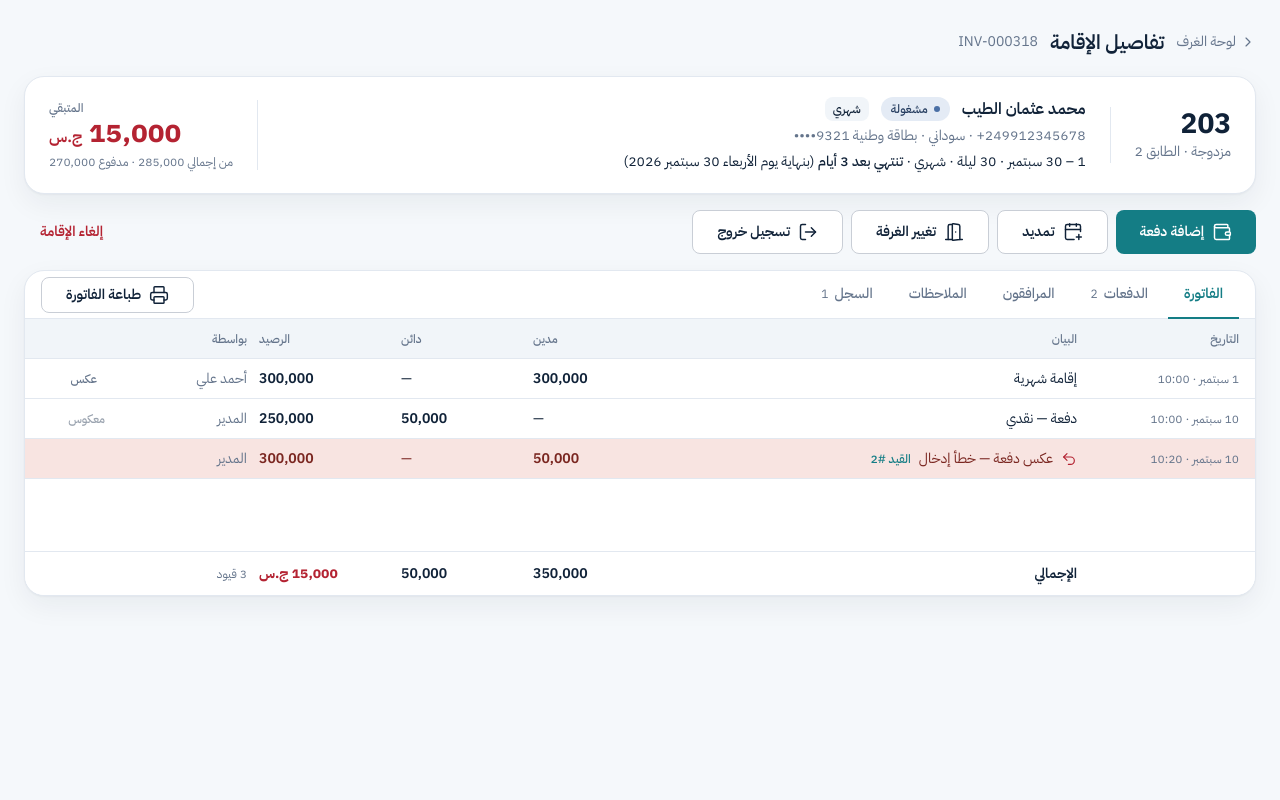
header, reversal link, and the check-out rule for a debt
Expected: the text "INV-000318" is shown, [958,31,1038,53]
Expected: the text "تنتهي بعد 3 أيام" is shown, [818,151,903,172]
Step 1. Click the tab "السجل 1" → point(847, 295), box [805,271,889,319]
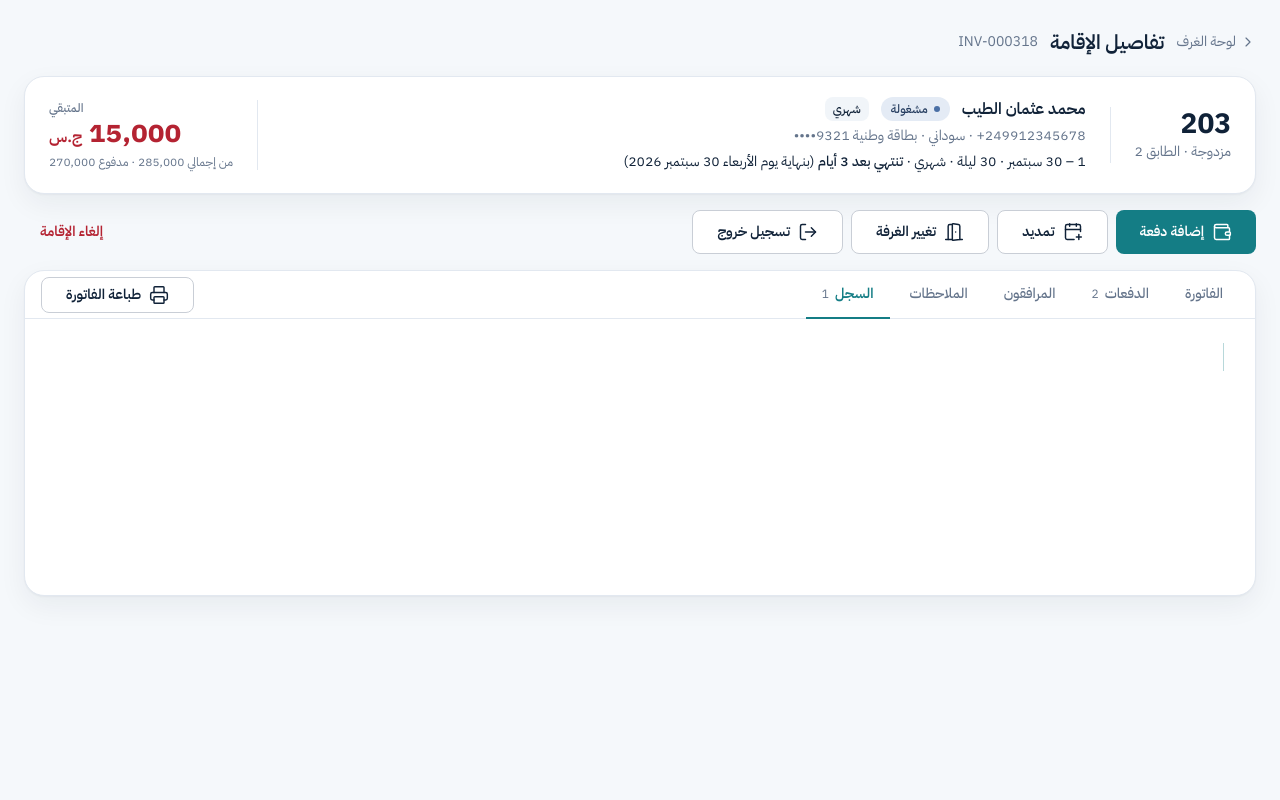
Step 2. Click the button "تسجيل خروج" → point(768, 232), box [692,210,843,254]
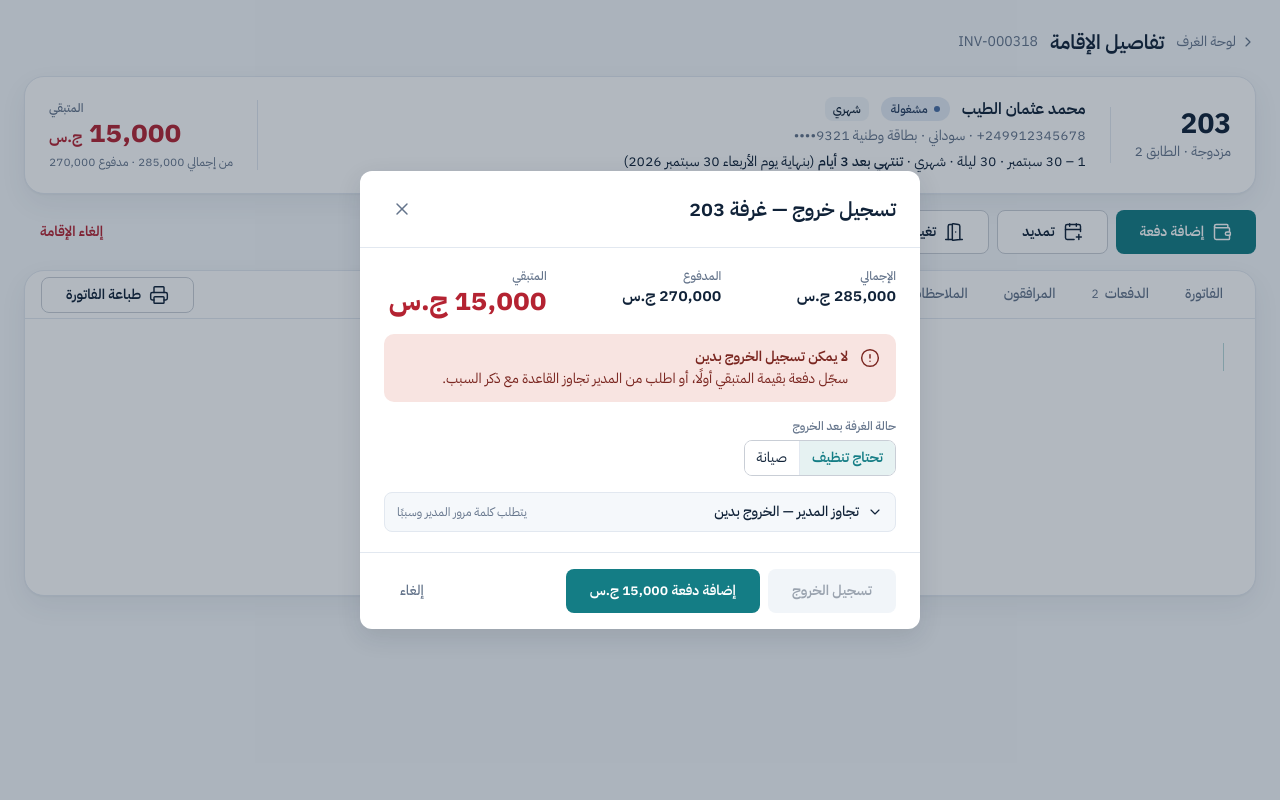
Expected: the text "لا يمكن تسجيل الخروج بدين" is shown, [695,346,848,367]
Expected: the button "تسجيل الخروج" is disabled, [768,569,896,613]
Step 3. Click the button "تجاوز المدير — الخروج بدين يتطلب كلمة مرور المدير وسببًا" → point(787, 512), box [384,492,896,532]
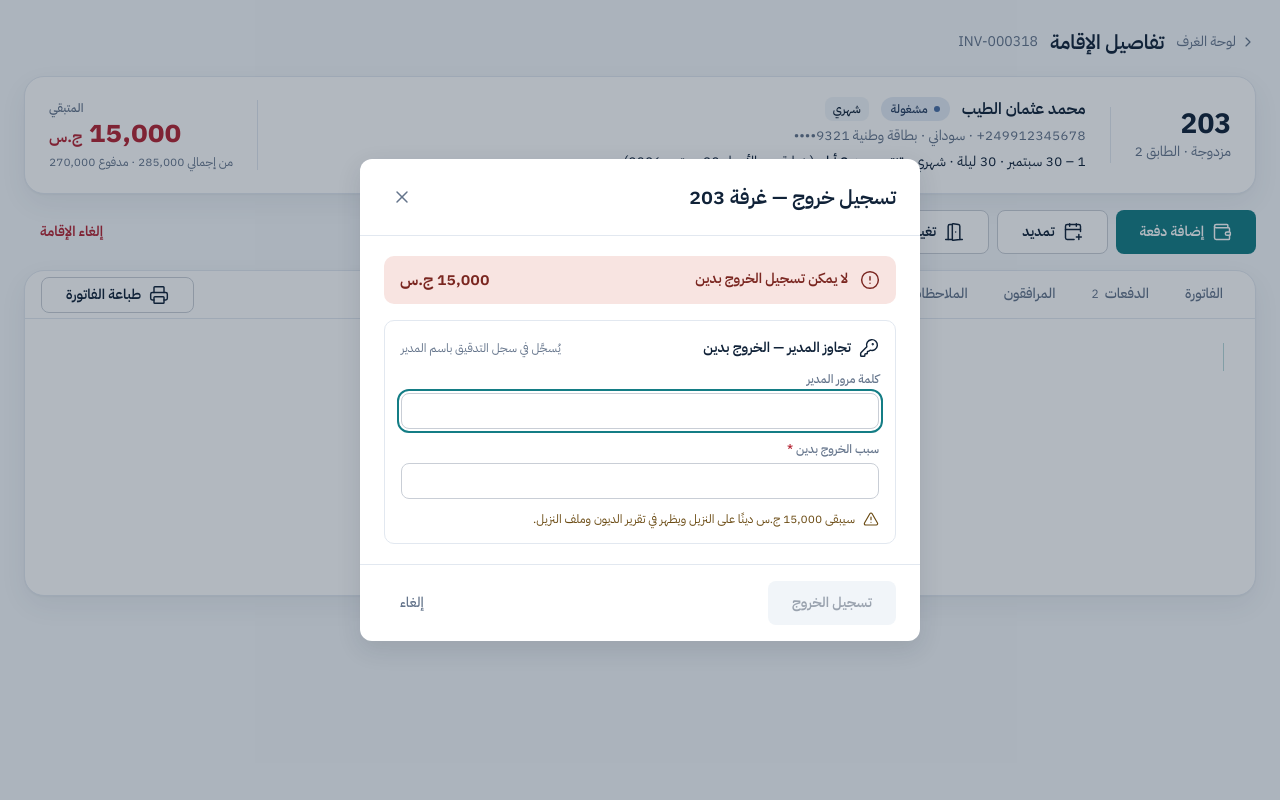
Step 4. Type "pw" into the password field labelled "كلمة مرور المدير" → point(640, 411), box [401,393,879,429]
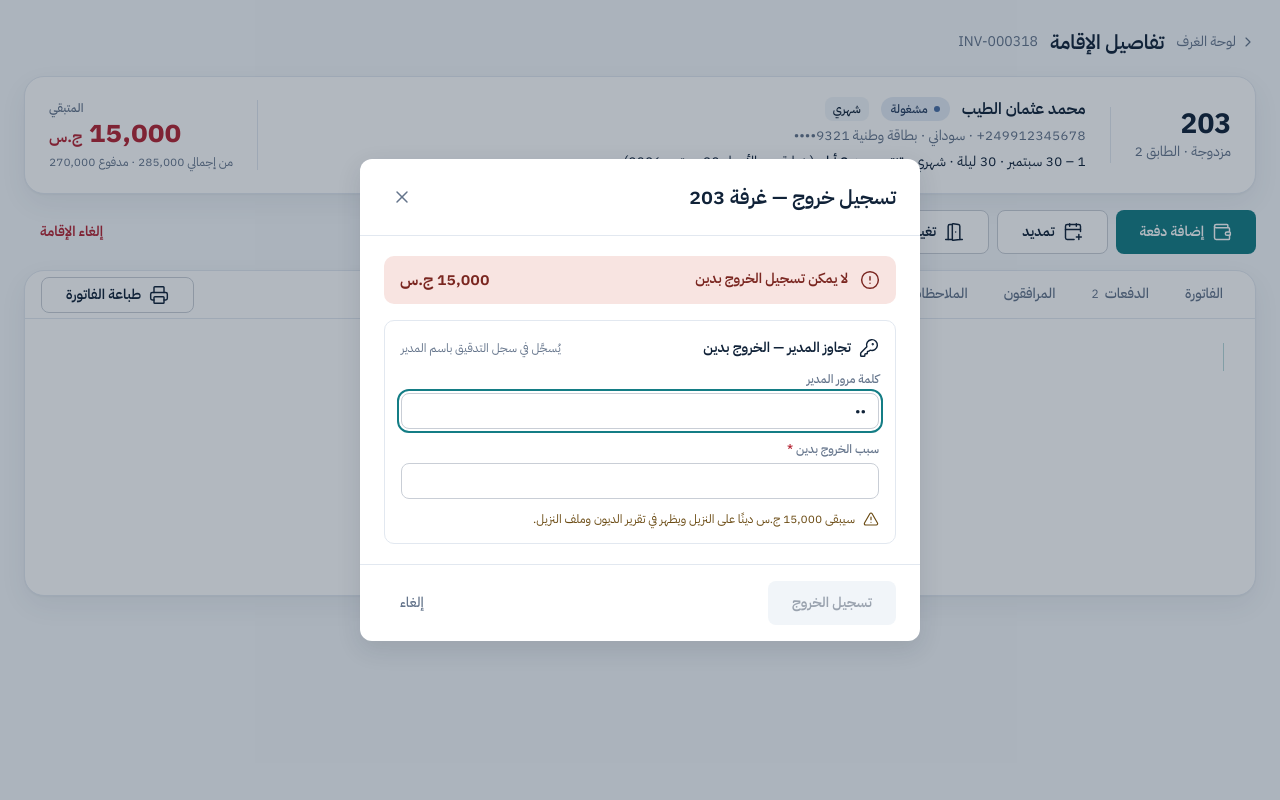
Step 5. Type "يسدد غدًا" into the field labelled "سبب الخروج بدين *" → point(640, 481), box [401,463,879,499]
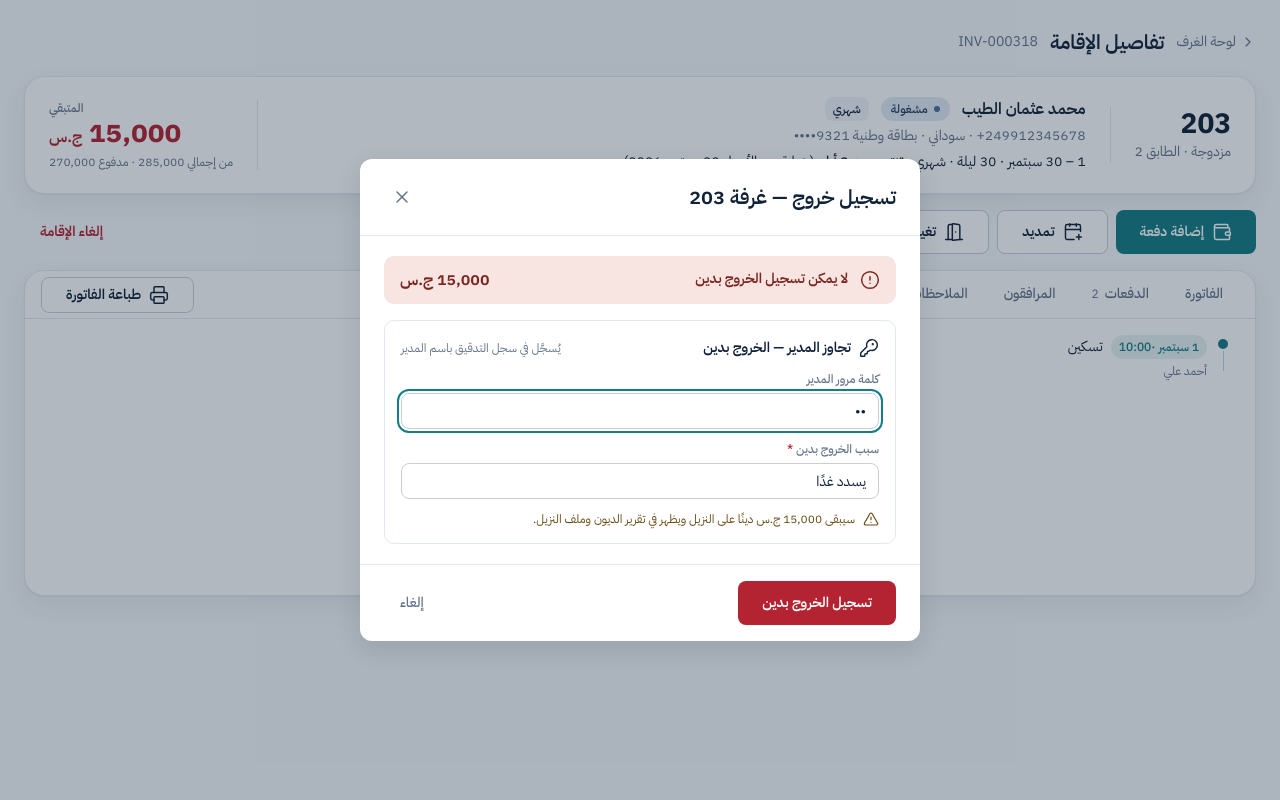
Expected: the button "تسجيل الخروج بدين" is enabled, [738,581,896,625]
